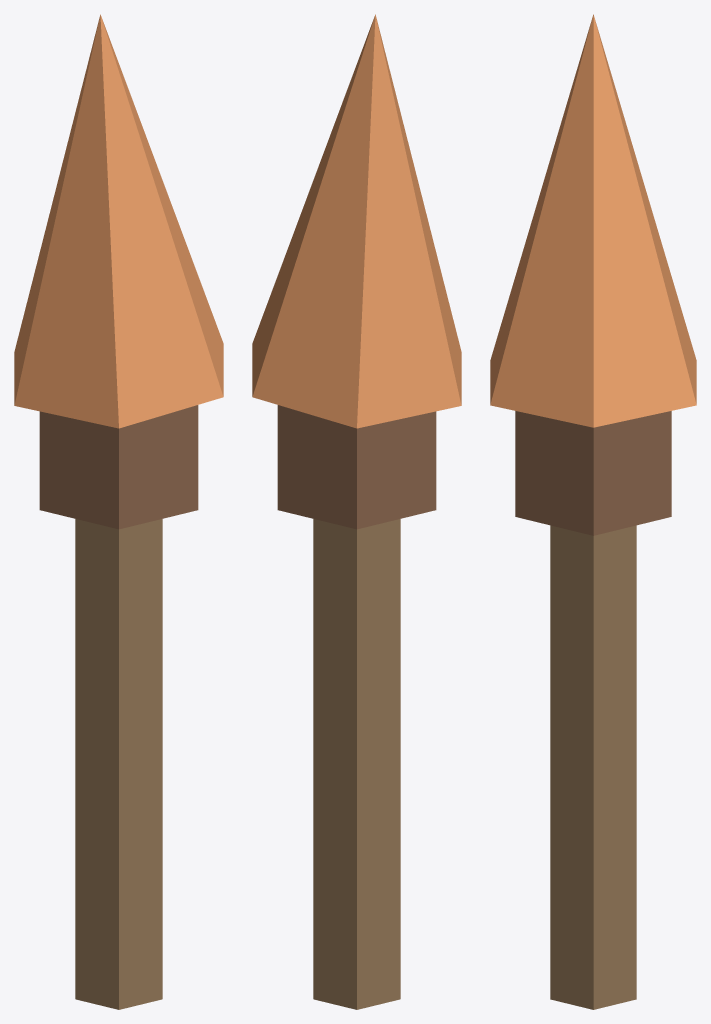
File: animprop_torch_03.glb
3 renders of one model, left to right at view 1: azimuth 30°, elevation 25°; view 2: azimuth 150°, elevation 25°; view 3: azimuth 270°, elevation 25°, orthographic.
Visible parts, largest first — view 1: animprop; view 2: animprop; view 3: animprop.
Boxes of the visible parts, x1,y1,x2,y2 form: animprop: [14, 14, 223, 1009]; animprop: [252, 14, 461, 1009]; animprop: [490, 14, 696, 1009].
Bounding box in the file's own units: 0.2636 × 1.18 × 0.2286.
